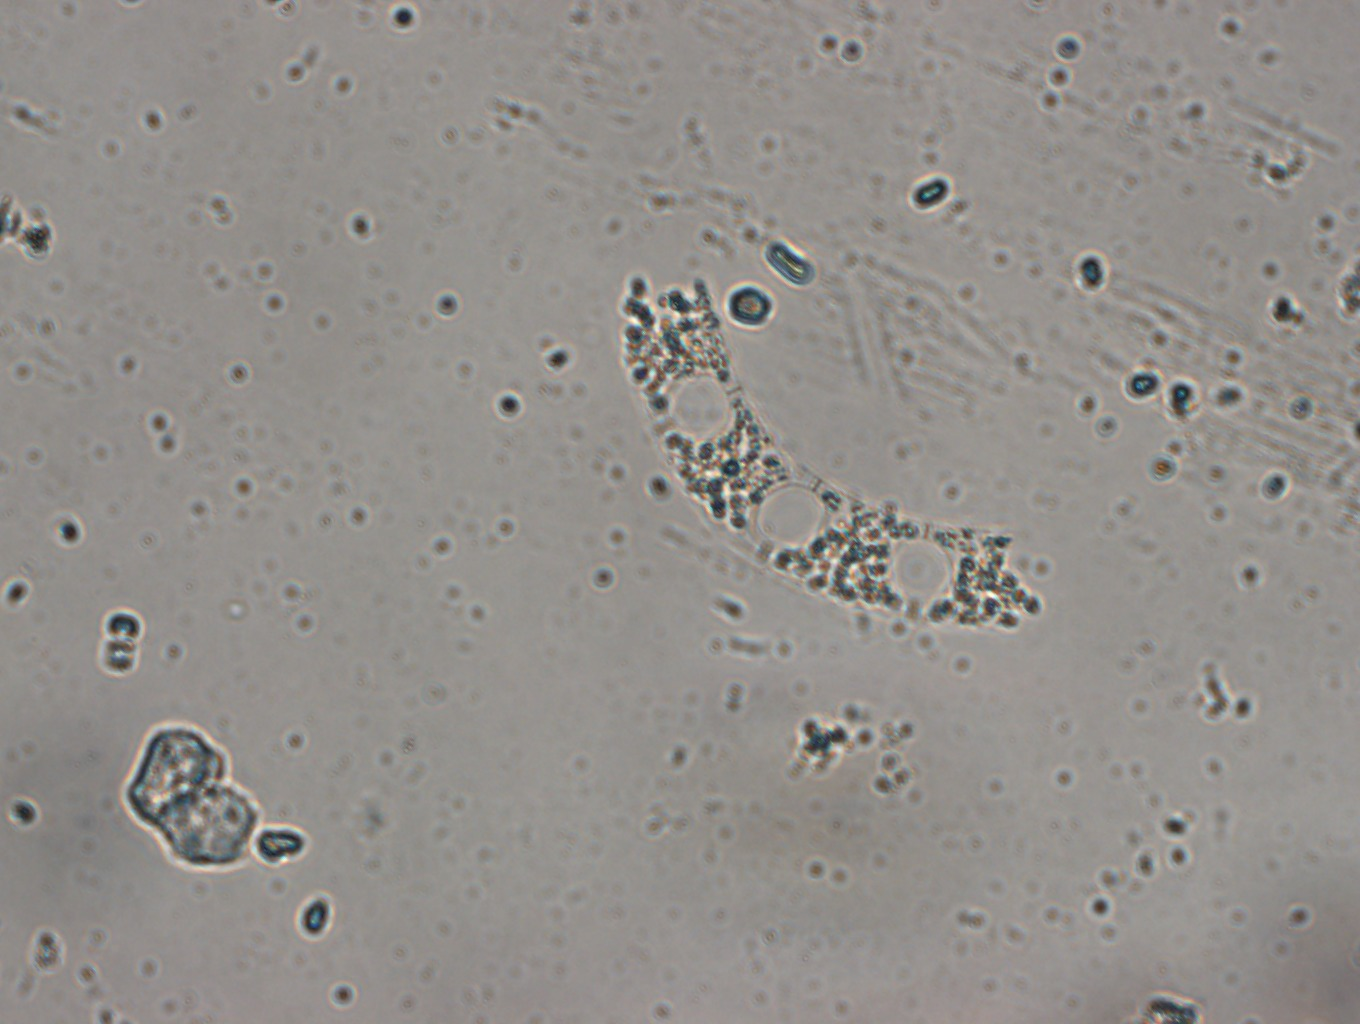eucampia: (619, 264, 1041, 632)
